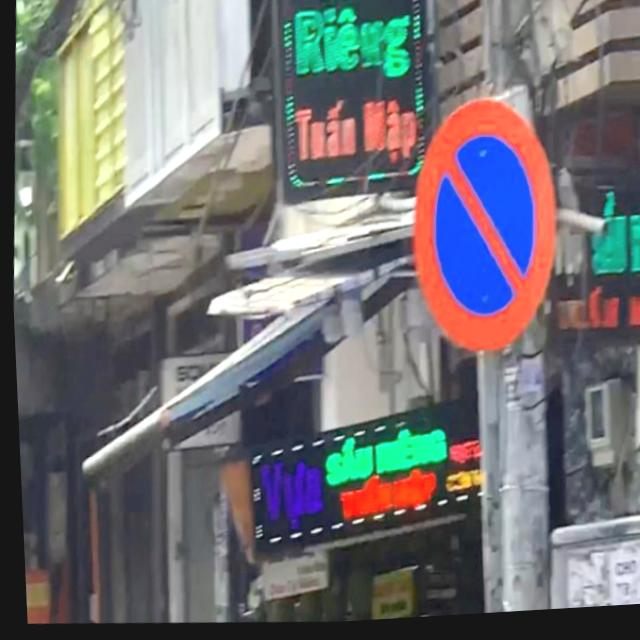Cam do xe: (401, 98, 565, 366)
